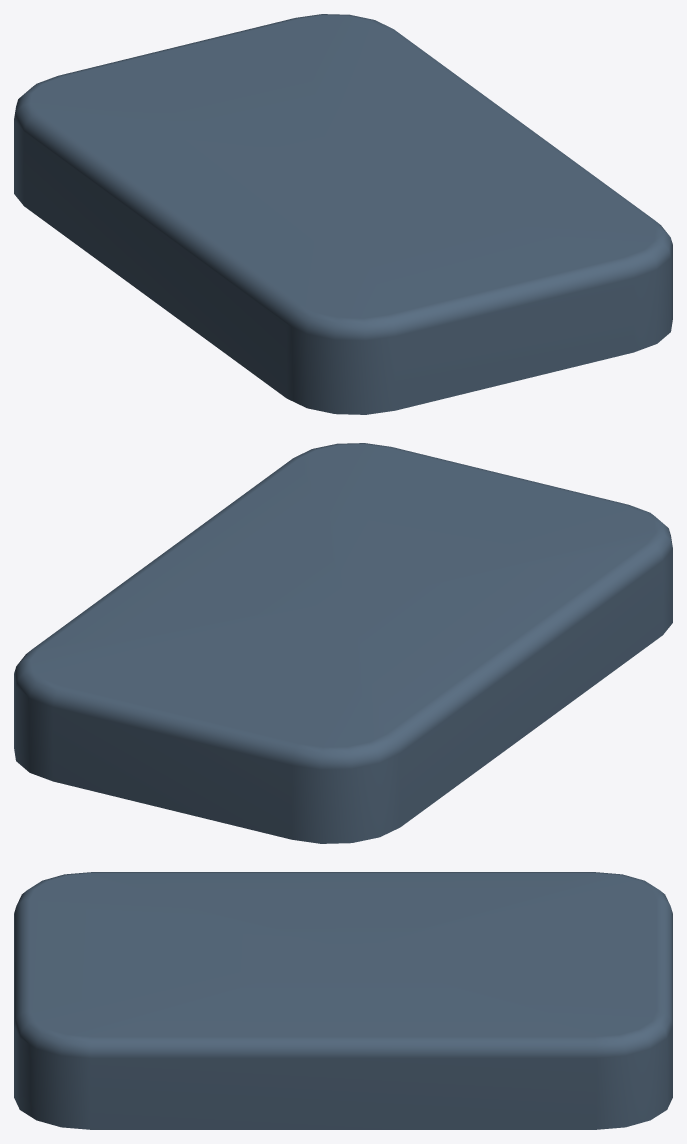
Rendered from TowerShooterPlatform.fbx.
The picture shows the model from 3 angles, top to bottom: view 1: azimuth 30°, elevation 25°; view 2: azimuth 150°, elevation 25°; view 3: azimuth 270°, elevation 25°; orthographic projection. The views are drawn at different scales.
Parts seen in each view (by area): view 1: TowerShooterPlatform; view 2: TowerShooterPlatform; view 3: TowerShooterPlatform.
Part boxes in pixels (x1,y1,x2,y2): TowerShooterPlatform: (14, 14, 672, 414); TowerShooterPlatform: (14, 443, 672, 843); TowerShooterPlatform: (14, 872, 672, 1129).
Size of the model in its own units: 427 by 96.95 by 672.
